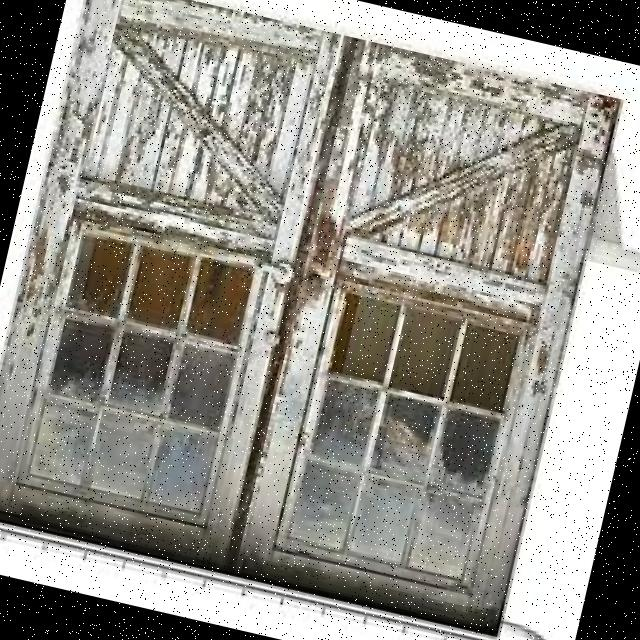Door: (0, 0, 626, 637)
